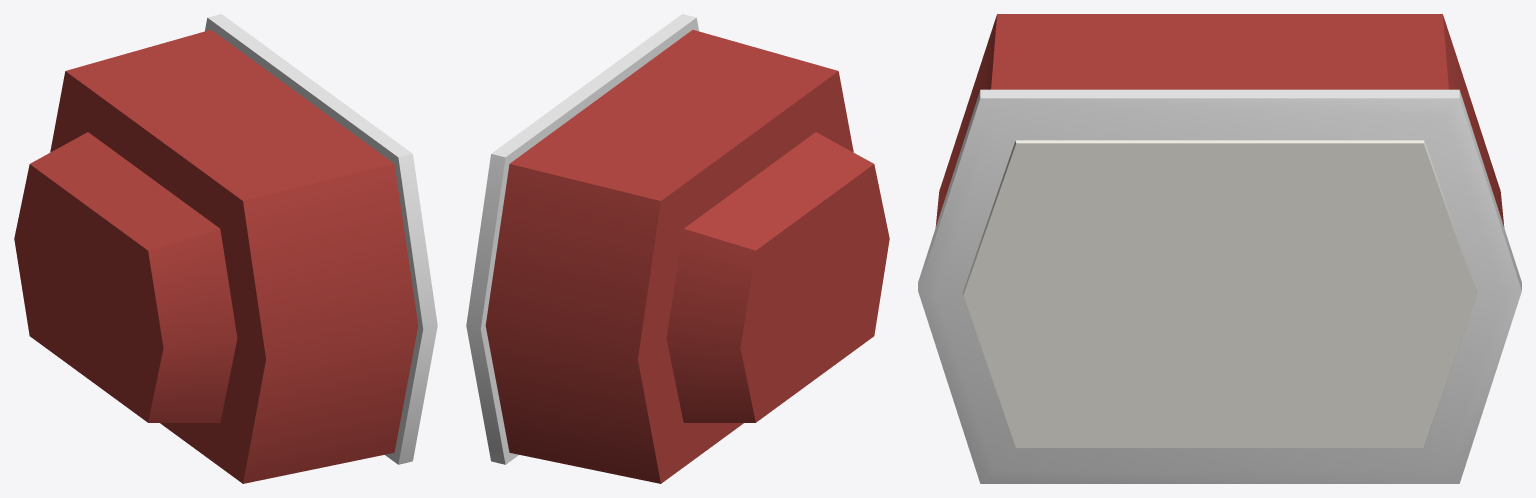
File: square_lod2.glb
3 renders of one model, left to right at view 1: azimuth 30°, elevation 25°; view 2: azimuth 150°, elevation 25°; view 3: azimuth 270°, elevation 25°, orthographic. The views are drawn at different scales.
Visible parts, largest first — view 1: square_lod2; view 2: square_lod2; view 3: square_lod2.
Part boxes in pixels (x1,y1,x2,y2): square_lod2: (14, 14, 437, 483); square_lod2: (466, 14, 889, 483); square_lod2: (918, 14, 1521, 483).
Bounding box in the file's own units: 1.3 × 1.62 × 2.3.
